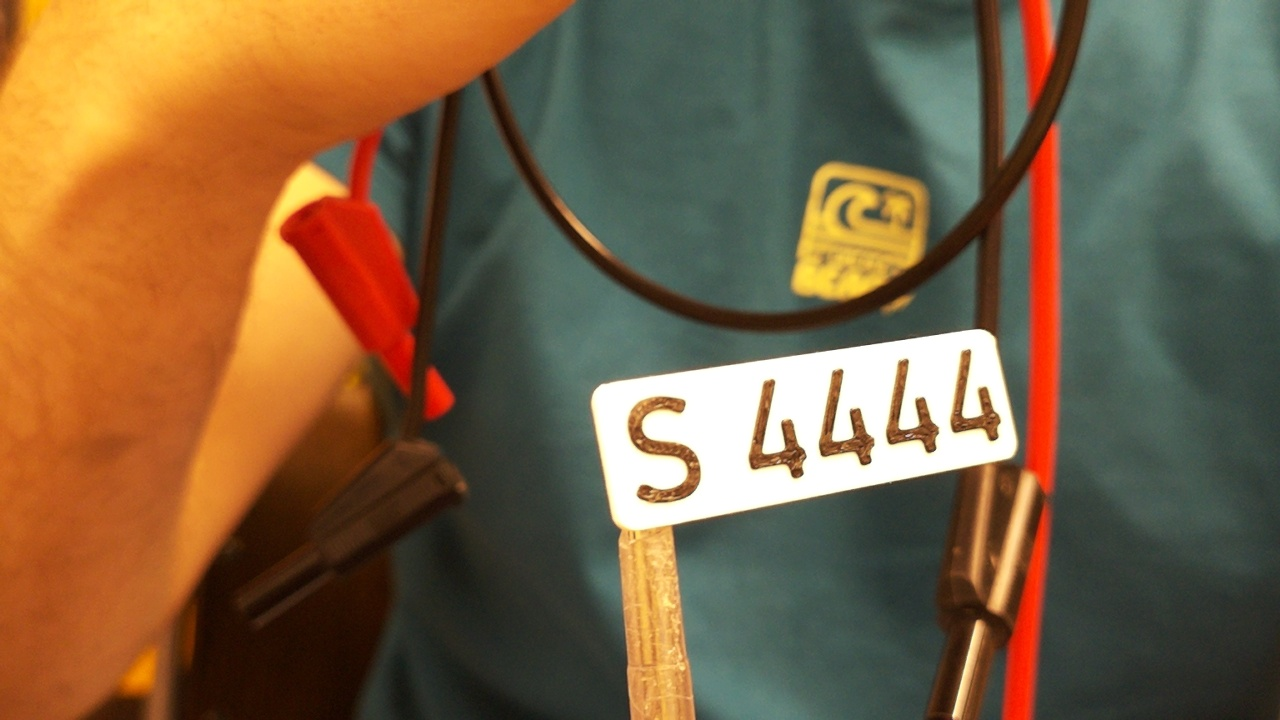license_plate: (587, 326, 1021, 533)
